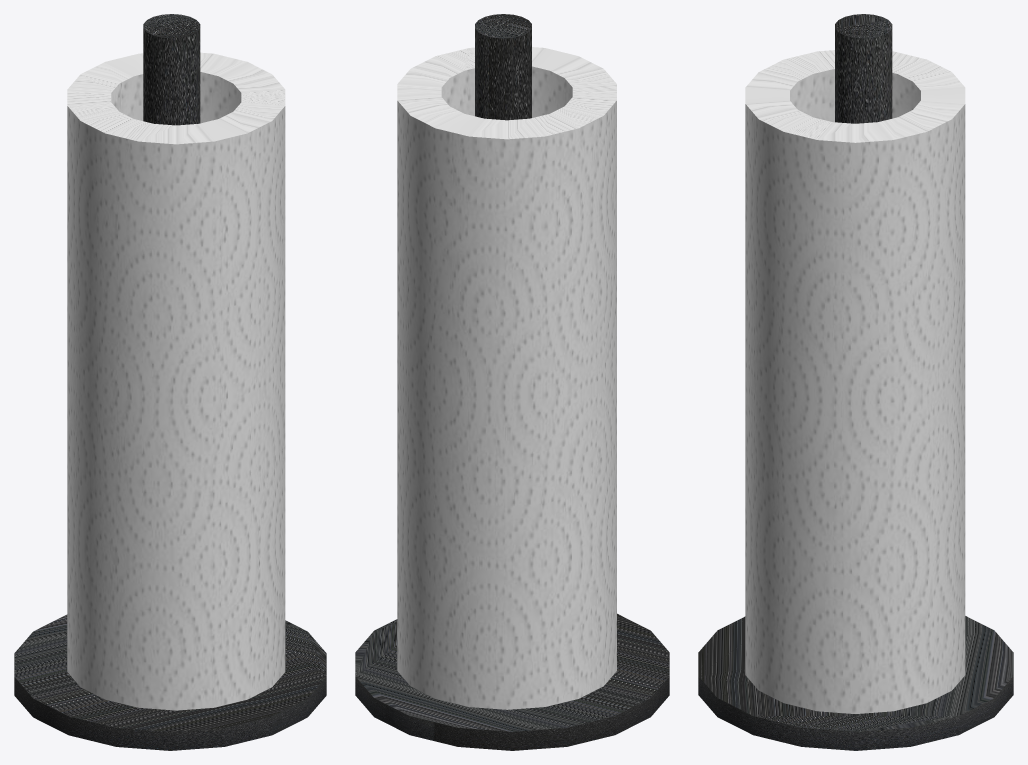
The model's file is sopalin.fbx.
3 views of the same model, side by side, from view 1: azimuth 30°, elevation 25°; view 2: azimuth 150°, elevation 25°; view 3: azimuth 270°, elevation 25° (orthographic).
Visible parts, largest first — view 1: sopalin; view 2: sopalin; view 3: sopalin.
Boxes of the visible parts, x1,y1,x2,y2 form: sopalin: [14, 14, 326, 750]; sopalin: [355, 14, 669, 750]; sopalin: [698, 14, 1013, 750].
Size of the model in its own units: 2.14 by 4.88 by 2.11.
Materials: 2 (2 with a texture image).
